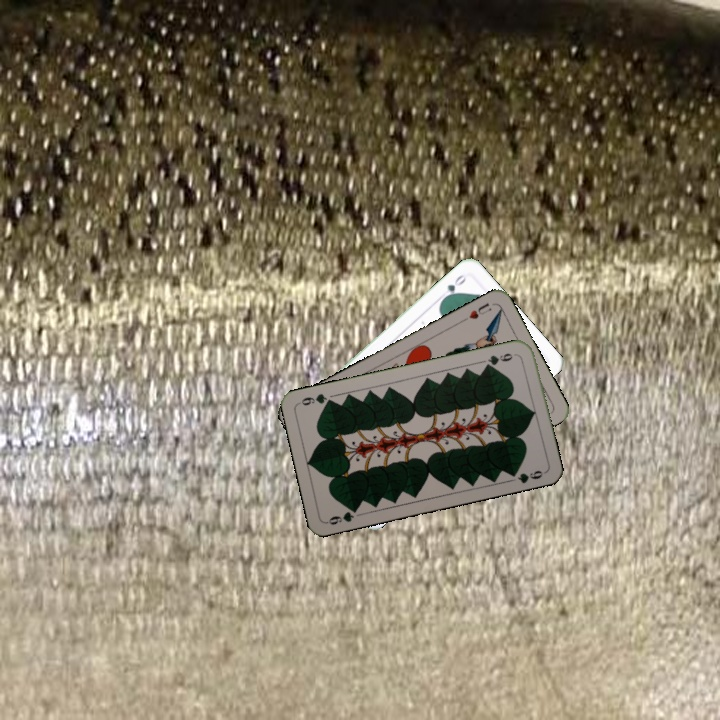G9: (323, 503, 361, 528), (481, 349, 515, 370)
GO: (438, 270, 470, 303)
HU: (458, 298, 494, 324)
